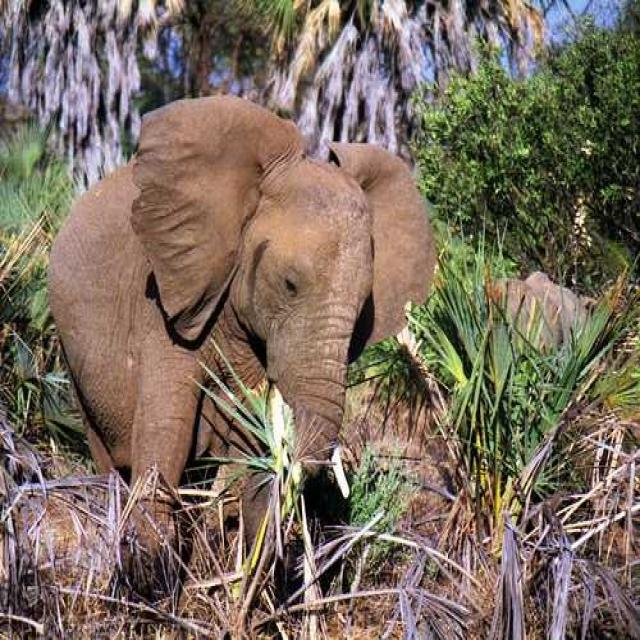Elephant: (45, 92, 440, 600)
